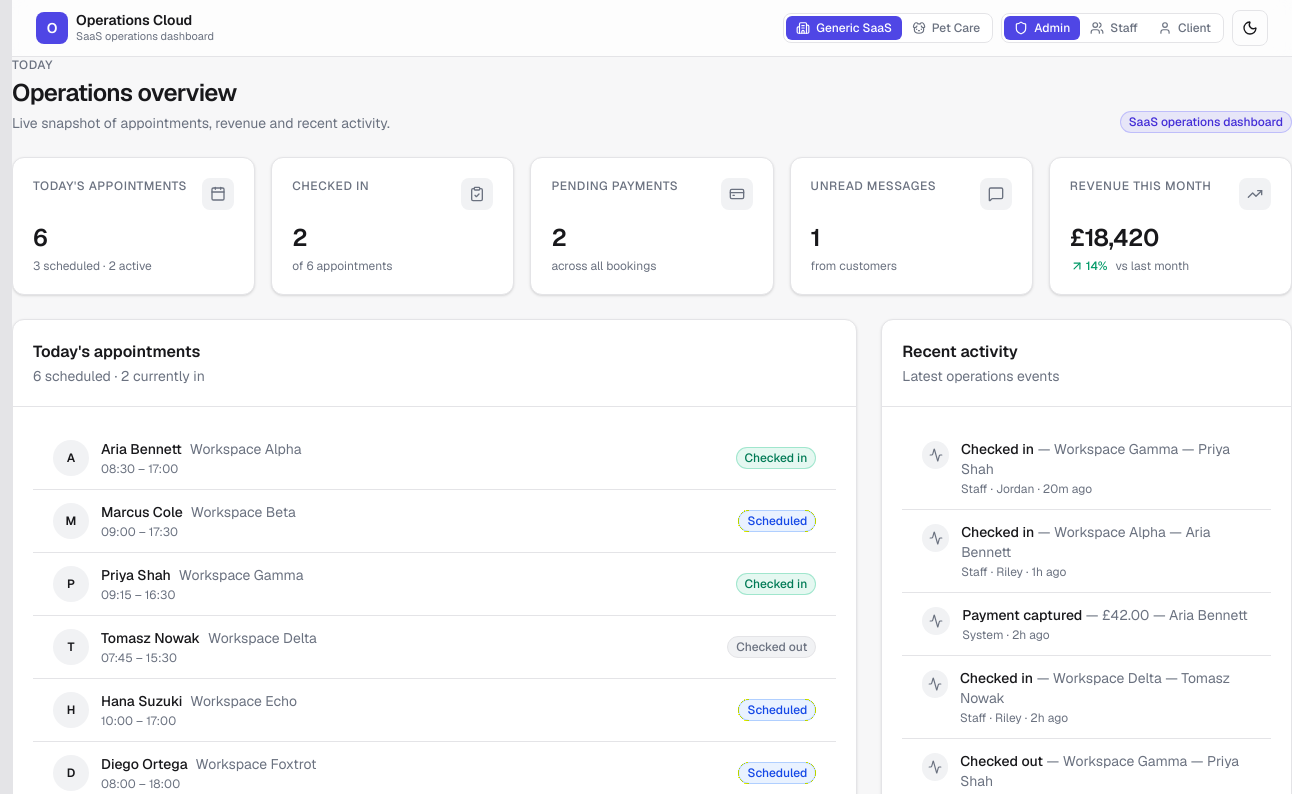
Test: Role switcher › changes the dashboard heading when switching from admin to client
Expected: the heading "Operations overview" is shown, [12,77,237,108]
Click the radio button labelled "Client". click: coordinates (1184, 28)
box: [1148,16,1221,40]
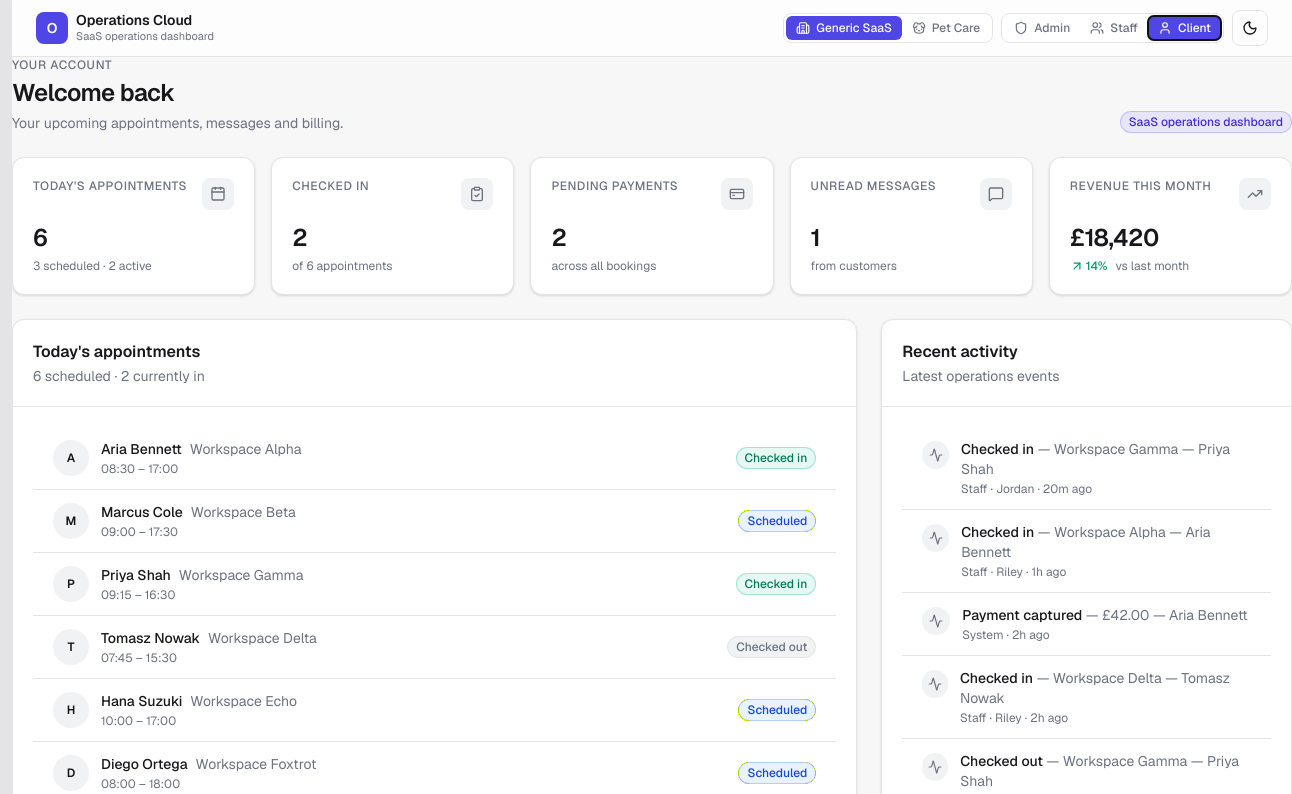
Expected: the heading "Welcome back" is shown, [12,77,175,108]
